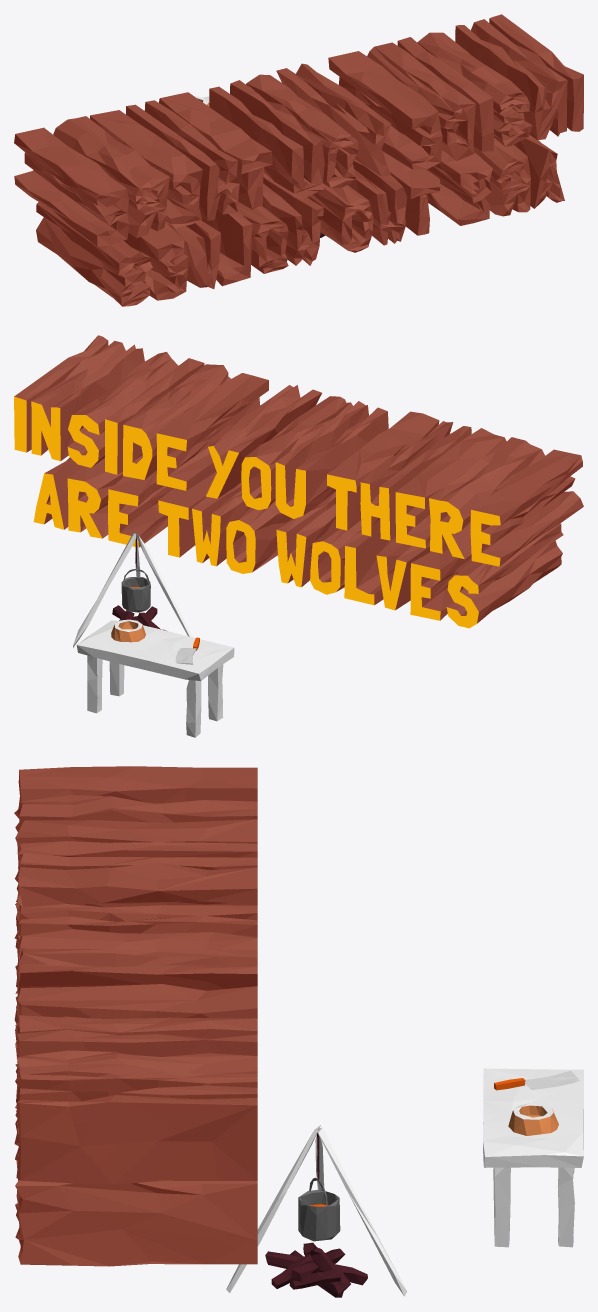
The model's file is combined_environment.fbx.
The picture shows the model from 3 angles, top to bottom: view 1: azimuth 30°, elevation 25°; view 2: azimuth 150°, elevation 25°; view 3: azimuth 270°, elevation 25°; orthographic projection. The views are drawn at different scales.
Visible parts, largest first — view 1: bigletters_fbx; view 2: bigletters_fbx, table, stove, dogbowl; view 3: bigletters_fbx, table, stove, dogbowl, cleaver.
Part boxes in pixels (x1,y1,x2,y2): bigletters_fbx: (14, 14, 583, 306); bigletters_fbx: (14, 335, 583, 628); table: (76, 620, 234, 737); stove: (73, 532, 192, 647); dogbowl: (111, 619, 145, 642); bigletters_fbx: (14, 766, 257, 1266); table: (483, 1068, 583, 1247); stove: (226, 1125, 407, 1297); dogbowl: (508, 1102, 558, 1135); cleaver: (494, 1070, 579, 1090).
Bounding box in the file's own units: 804 × 307 × 564.
8 materials, 1 textured.
